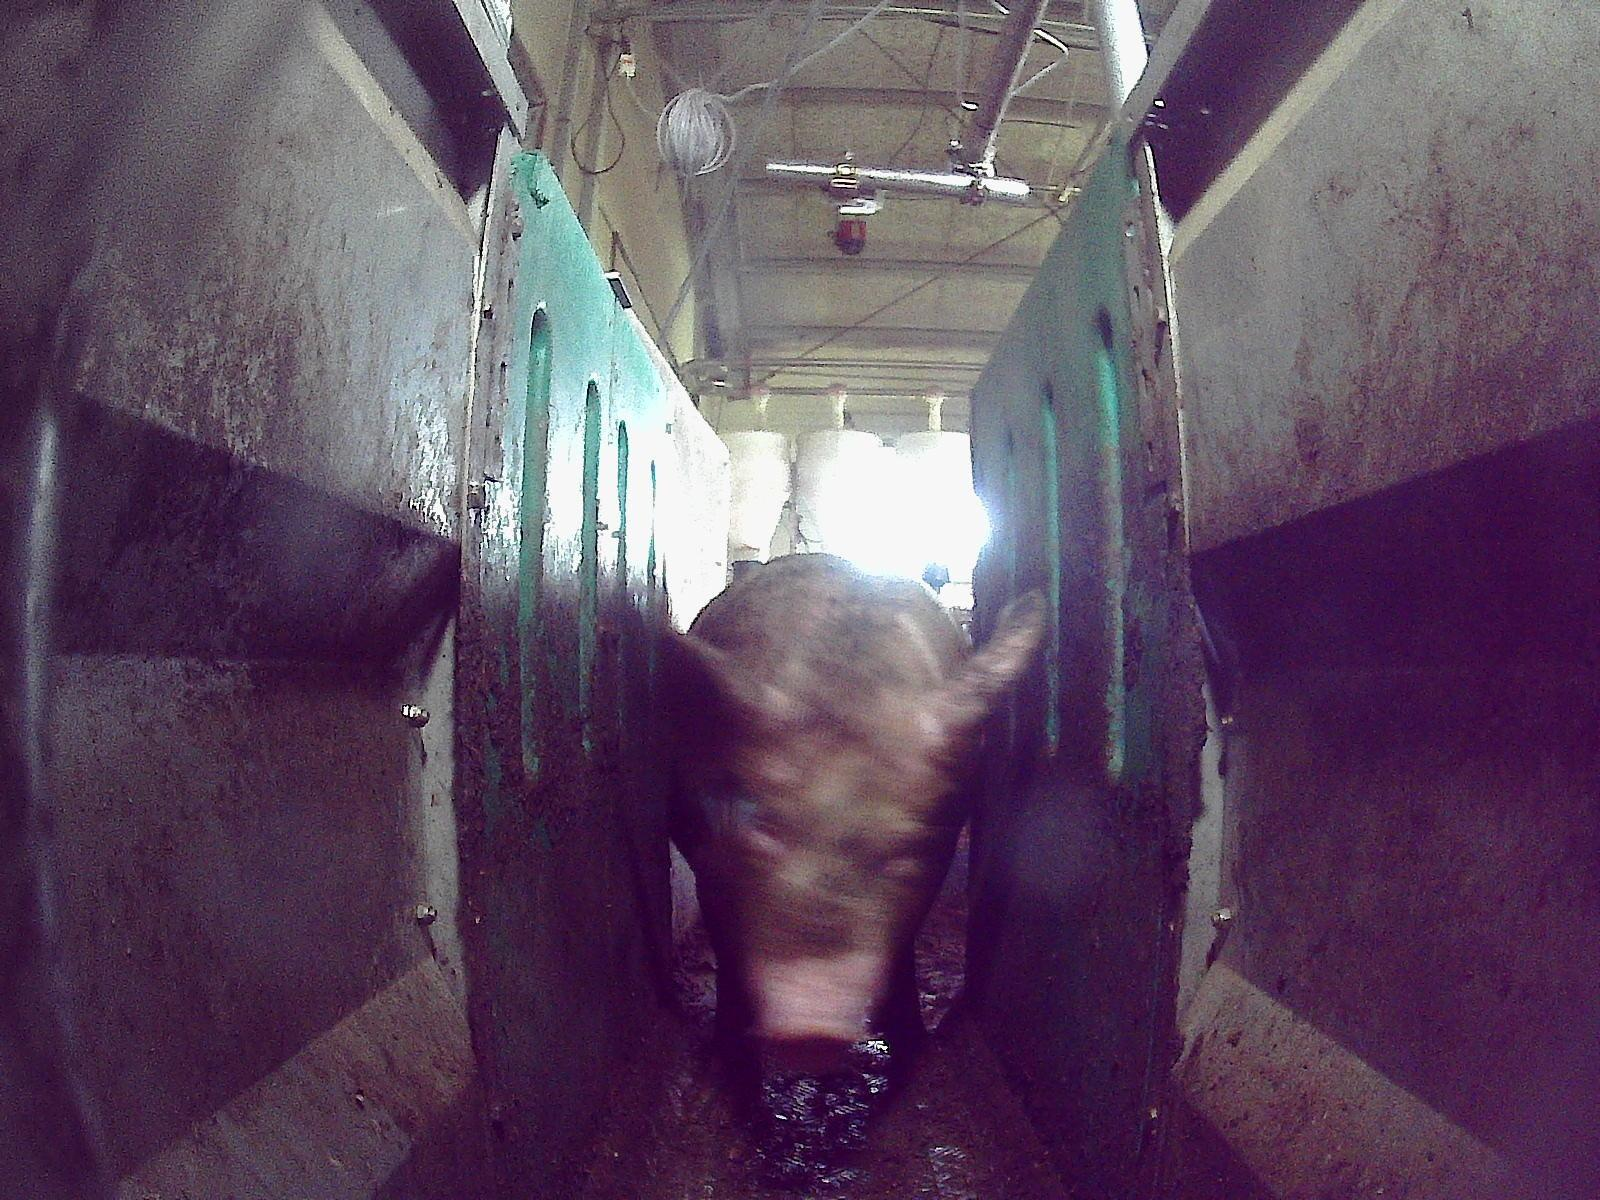Face: (713, 708, 954, 1075)
